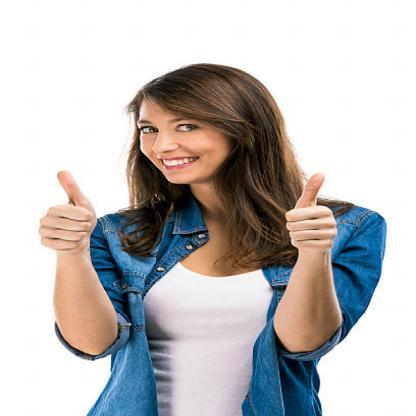thumb_up: (36, 168, 104, 254), (279, 170, 347, 254)
